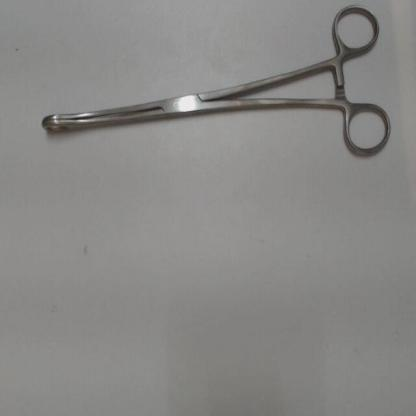Sponge Forceps: (33, 0, 395, 169)
